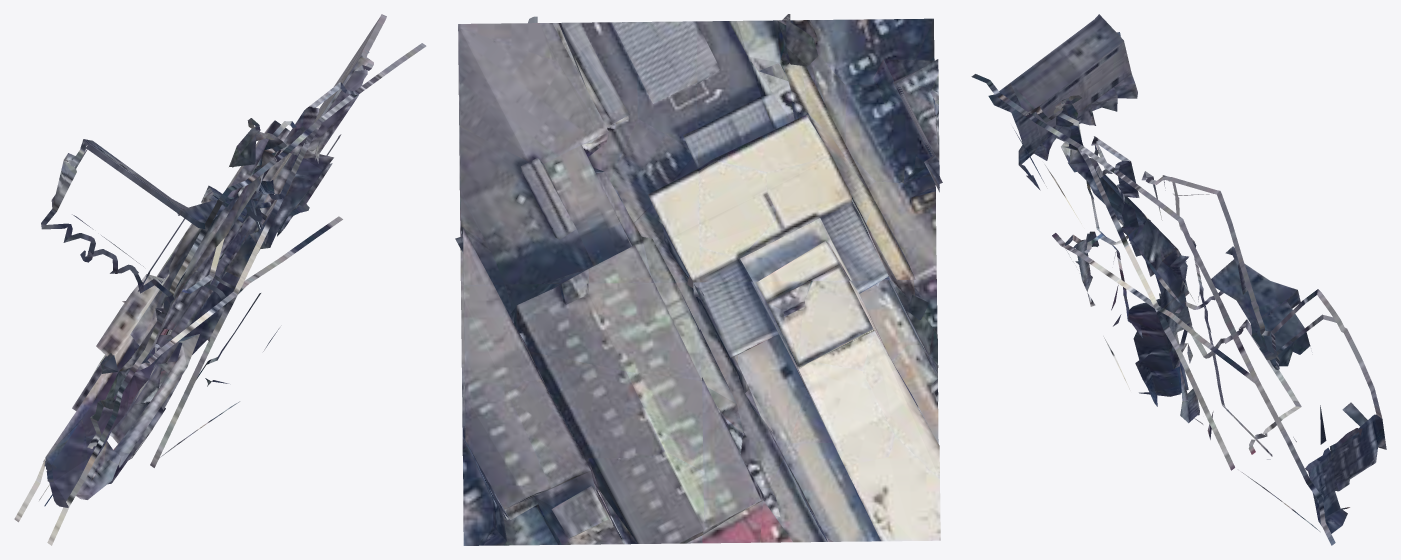
3 renders of one model, left to right at view 1: azimuth 30°, elevation 25°; view 2: azimuth 150°, elevation 25°; view 3: azimuth 270°, elevation 25°, orthographic. The views are drawn at different scales.
Bounding box in the file's own units: 79.58 × 75.31 × 71.99.
Materials: 1 (1 with a texture image).
